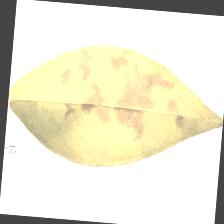black spot: (55, 50, 184, 137)
